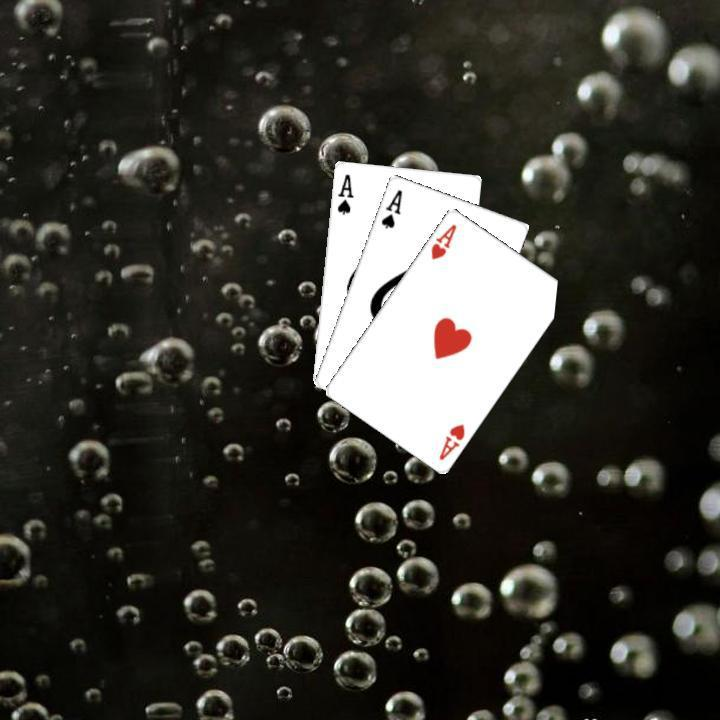A: (434, 419, 467, 462), (426, 219, 458, 261), (377, 185, 404, 230), (333, 169, 355, 216)
